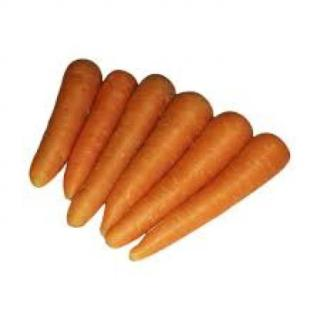Wortel: (102, 110, 254, 249), (129, 132, 292, 261), (100, 91, 214, 234), (64, 69, 140, 202), (29, 59, 104, 189)
